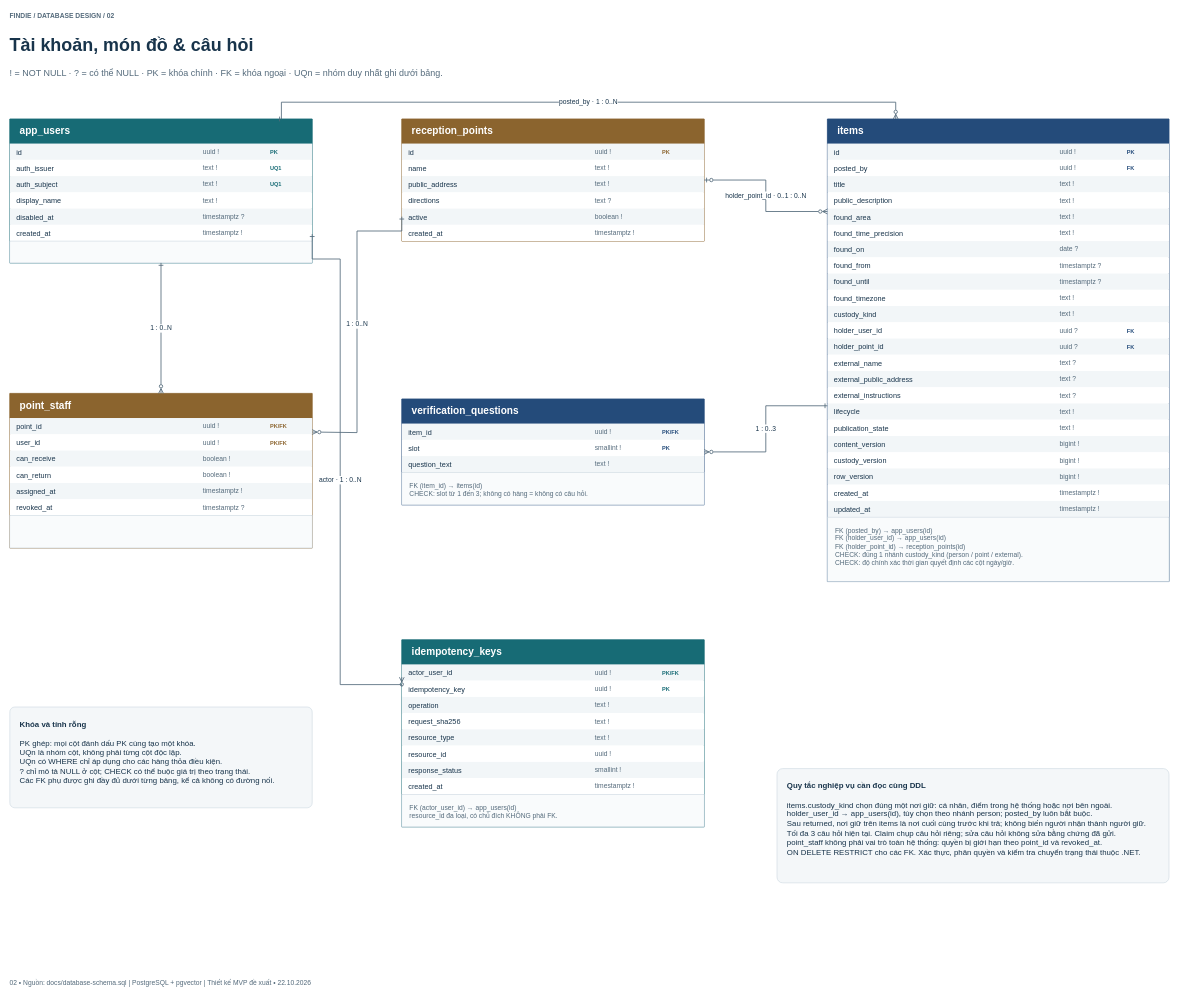
The diagram is 1184 pixels wide and 999 high, and some of its shapes have lost their labels. Each missing label, with the centre of its shape:
"FK (point_id) → reception_points(id) FK (user_id) → app_users(id)" belongs at [160,531].
"UQ1 (auth_issuer, auth_subject)" belongs at [160,252].
